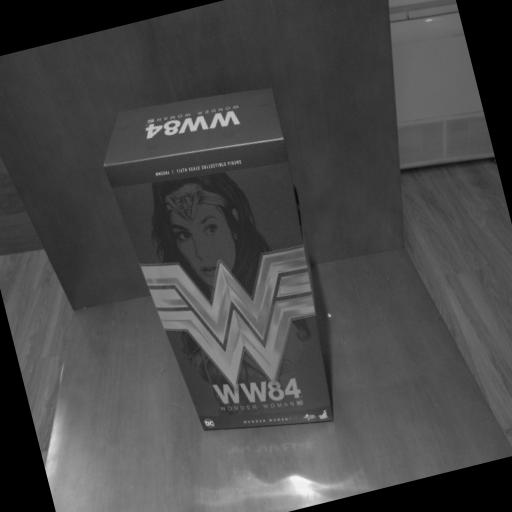WonderWoman: (92, 74, 355, 462)
